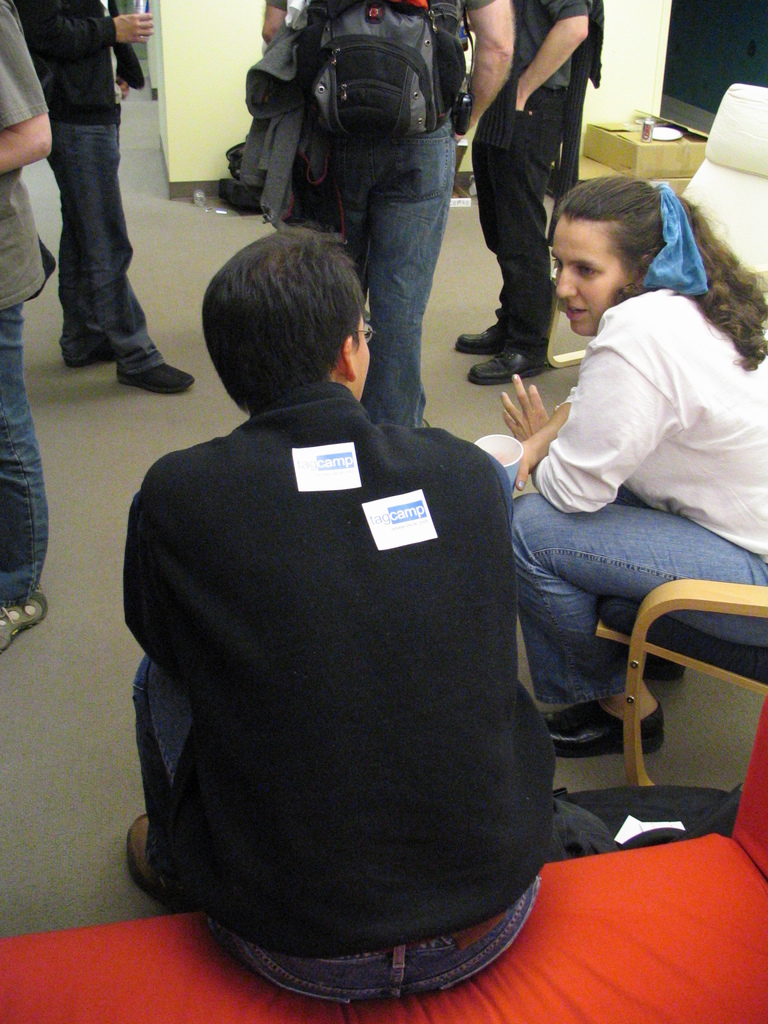Footwear: (125, 810, 185, 911), (543, 703, 657, 756), (607, 638, 698, 691), (465, 342, 549, 386), (117, 358, 198, 395), (0, 593, 45, 653), (458, 317, 508, 358), (70, 332, 117, 367)
